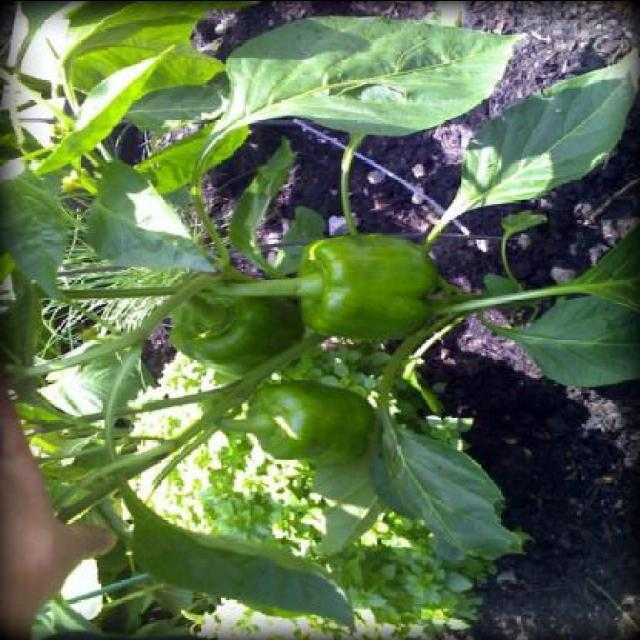Bell pepper: (298, 230, 436, 338), (172, 277, 294, 373), (246, 380, 372, 466)
